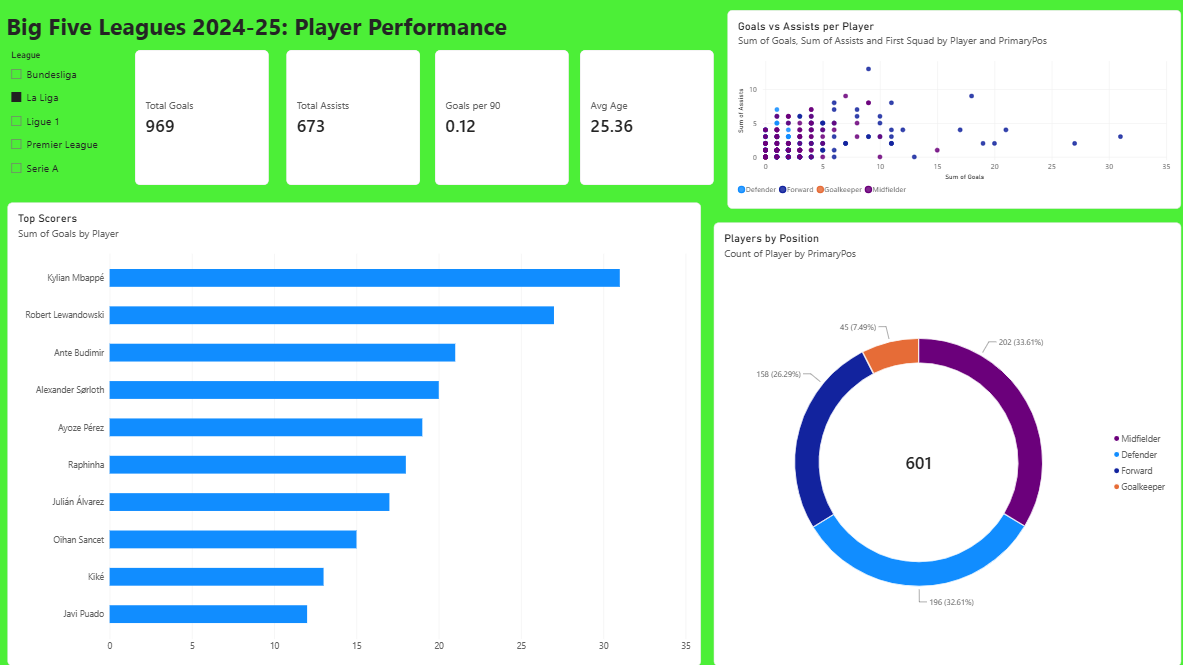

This screenshot's page, from the dashboard's own definition file:
{"tool":"powerbi","page":{"name":"Page 1","canvas":[1920,1080],"ordinal":0},"visuals":[{"type":"cardVisual","fields":{"Data":["players_clean.Total Goals"]},"box":[217.9,80.7,216.1,218.2],"z":0},{"type":"cardVisual","fields":{"Data":["players_clean.Total Assists"]},"box":[461.9,80.7,216.1,218.2],"z":1000},{"type":"cardVisual","fields":{"Data":["players_clean.Goals per 90"]},"box":[702,80.7,216.1,218.2],"z":2000},{"type":"cardVisual","fields":{"Data":["players_clean.Avg Age"]},"box":[936,80.7,216.1,218.2],"z":3000},{"type":"clusteredBarChart","title":"Top Scorers","fields":{"Category":["players_clean.Player"],"Y":["Sum(players_clean.Goals)"]},"box":[12.1,326.8,1119.6,748.4],"z":4000},{"type":"donutChart","title":"Players by Position","fields":{"Category":["players_clean.PrimaryPos"],"Y":["CountNonNull(players_clean.Player)"]},"box":[1151.8,359.1,754.4,716.1],"z":5000},{"type":"scatterChart","title":"Goals vs Assists per Player","fields":{"Category":["players_clean.Player"],"Series":["players_clean.PrimaryPos"],"X":["Sum(players_clean.Goals)"],"Y":["Sum(players_clean.Assists)"]},"box":[1174,16.1,732.3,320.7],"z":6000},{"type":"slicer","fields":{"Values":["players_clean.League"]},"box":[10.1,80.7,415.6,246.1],"z":7000},{"type":"textbox","box":[10.1,16.1,851.3,98.8],"z":8000}]}

Visuals, with their boxes in screenshot pixels (x1, y1, x2, y2), scaled from the page's 1920x1080 canvas onto the 1183x665 screenshot:
cardVisual - players_clean.Total Goals: (x1=134, y1=50, x2=267, y2=184)
cardVisual - players_clean.Total Assists: (x1=285, y1=50, x2=418, y2=184)
cardVisual - players_clean.Goals per 90: (x1=433, y1=50, x2=566, y2=184)
cardVisual - players_clean.Avg Age: (x1=577, y1=50, x2=710, y2=184)
"Top Scorers" clusteredBarChart: (x1=7, y1=201, x2=697, y2=662)
"Players by Position" donutChart: (x1=710, y1=221, x2=1174, y2=662)
"Goals vs Assists per Player" scatterChart: (x1=723, y1=10, x2=1175, y2=207)
slicer - players_clean.League: (x1=6, y1=50, x2=262, y2=201)
textbox: (x1=6, y1=10, x2=531, y2=71)
